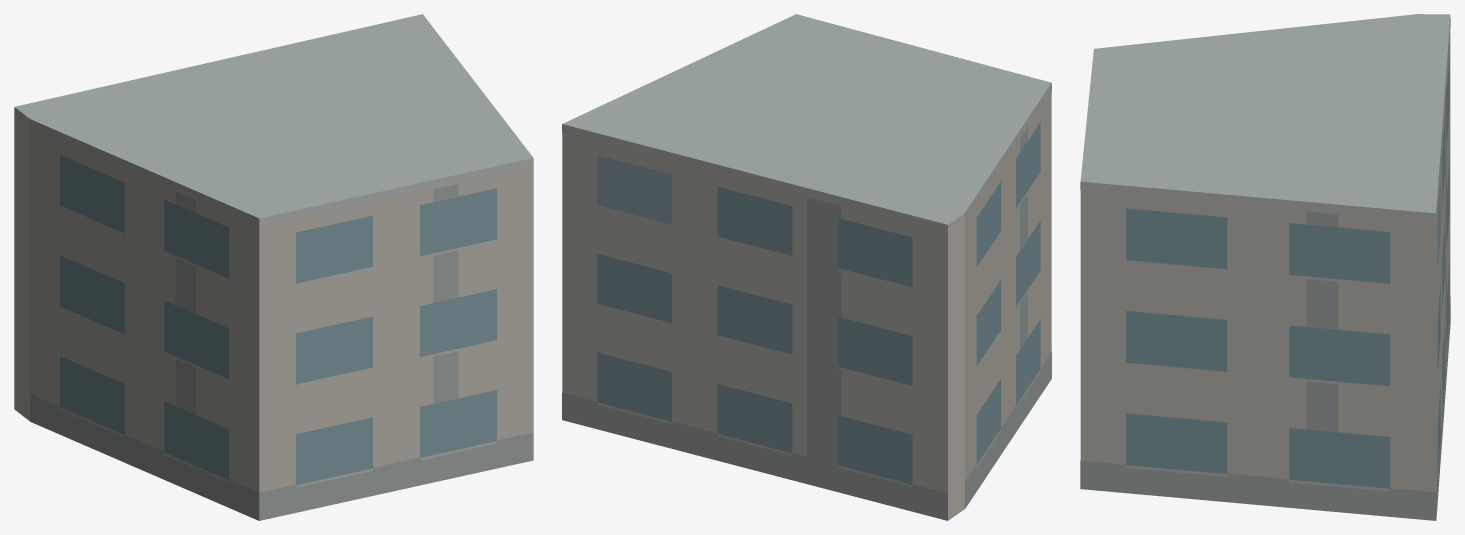
Rendered from residential-8a79dff2-b8c5-41e6-9584-b70d17f363ac.glb.
3 renders of one model, left to right at view 1: azimuth 30°, elevation 25°; view 2: azimuth 150°, elevation 25°; view 3: azimuth 270°, elevation 25°, orthographic. The views are drawn at different scales.
Visible parts, largest first — view 1: residential-8a79dff2-b8c5-41e6-9584-b70d17f363ac.tmp; view 2: residential-8a79dff2-b8c5-41e6-9584-b70d17f363ac.tmp; view 3: residential-8a79dff2-b8c5-41e6-9584-b70d17f363ac.tmp.
Boxes of the visible parts, x1=… form: residential-8a79dff2-b8c5-41e6-9584-b70d17f363ac.tmp: x1=14, y1=14, x2=533, y2=520; residential-8a79dff2-b8c5-41e6-9584-b70d17f363ac.tmp: x1=562, y1=14, x2=1051, y2=520; residential-8a79dff2-b8c5-41e6-9584-b70d17f363ac.tmp: x1=1080, y1=14, x2=1450, y2=520.
Bounding box in the file's own units: 11 × 7.9 × 8.63.
